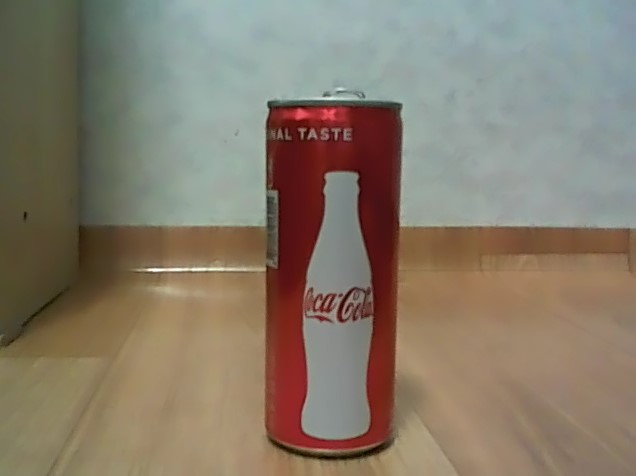Can: (256, 79, 406, 464)
